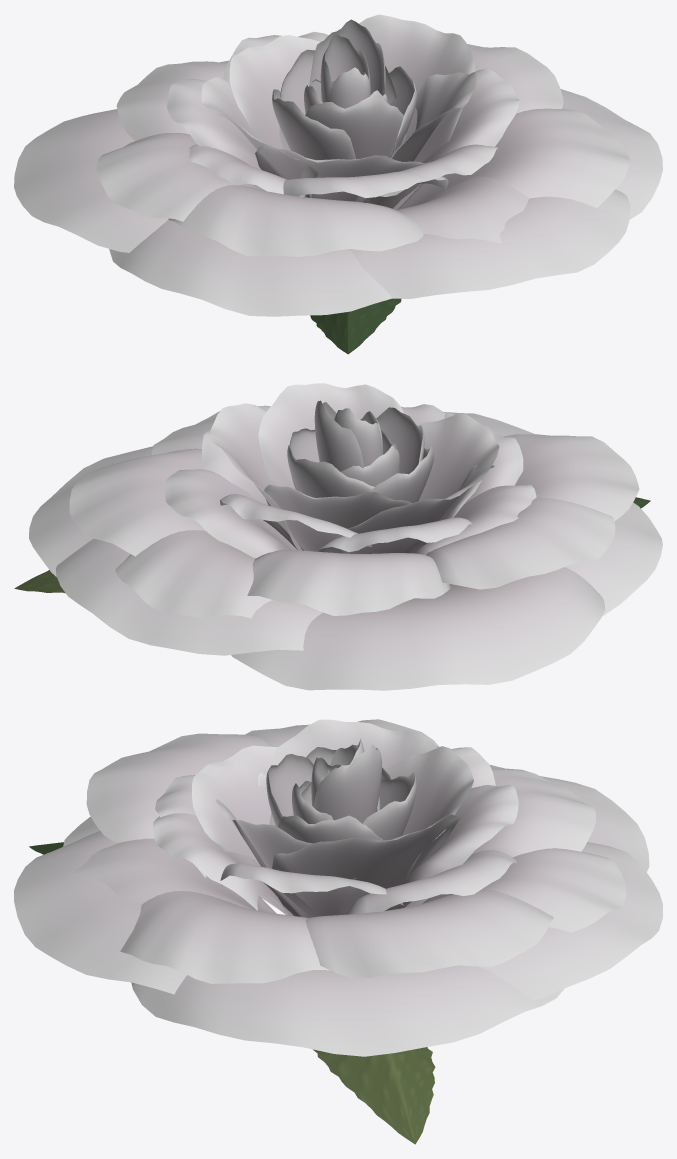
The model's file is open-rose.glb.
The picture shows the model from 3 angles, top to bottom: view 1: azimuth 30°, elevation 25°; view 2: azimuth 150°, elevation 25°; view 3: azimuth 270°, elevation 25°; orthographic projection. The views are drawn at different scales.
Visible parts, largest first — view 1: Petals, Leaf; view 2: Petals, Leaf; view 3: Petals, Leaf.
Part boxes in pixels (bbox=[...]): Petals: bbox=[14, 14, 662, 316]; Leaf: bbox=[310, 298, 401, 354]; Petals: bbox=[29, 383, 662, 690]; Leaf: bbox=[14, 570, 65, 593]; Petals: bbox=[14, 719, 662, 1056]; Leaf: bbox=[313, 1047, 435, 1144].
Bounding box in the file's own units: 1.05 × 0.4253 × 0.9839.
